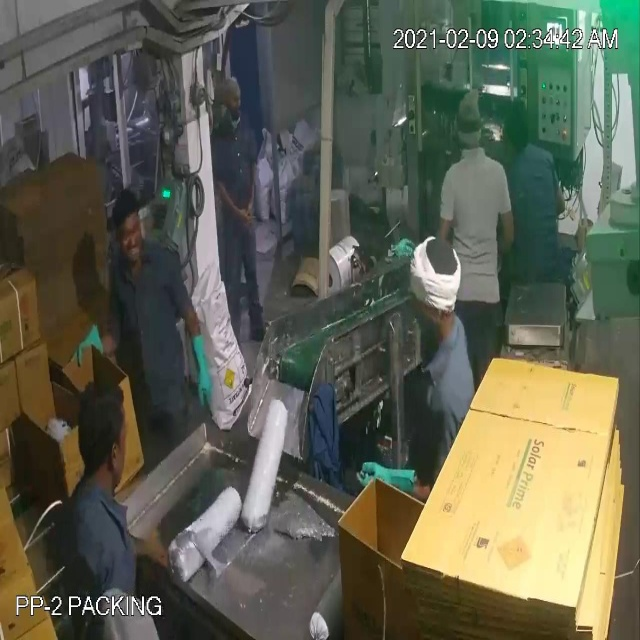Guantes: (184, 321, 219, 417), (66, 307, 110, 380)
Sin_guantes: (219, 180, 256, 241), (239, 163, 264, 227)
